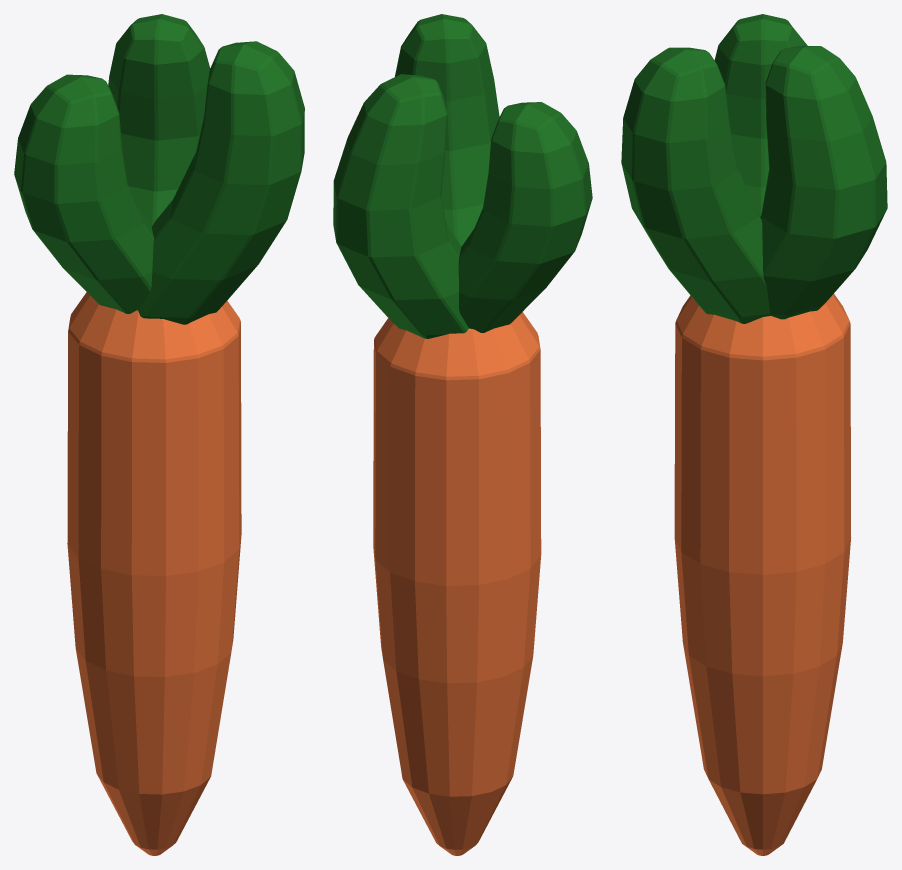
Rendered from farm-carrot.fbx.
The picture shows the model from 3 angles, left to right: view 1: azimuth 30°, elevation 25°; view 2: azimuth 150°, elevation 25°; view 3: azimuth 270°, elevation 25°; orthographic projection. The views are drawn at different scales.
Parts seen in each view (by area): view 1: Cylinder.027; view 2: Cylinder.027; view 3: Cylinder.027.
Part boxes in pixels (<box>): Cylinder.027: <box>14,14,304,855</box>; Cylinder.027: <box>333,14,592,855</box>; Cylinder.027: <box>621,14,887,855</box>.
Size of the model in its own units: 33.01 by 110 by 32.04.
